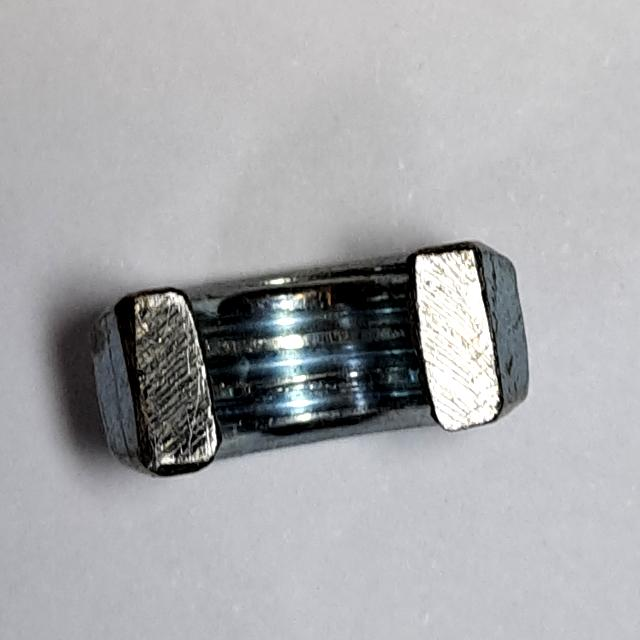Side-Fracture: (72, 222, 544, 491)
